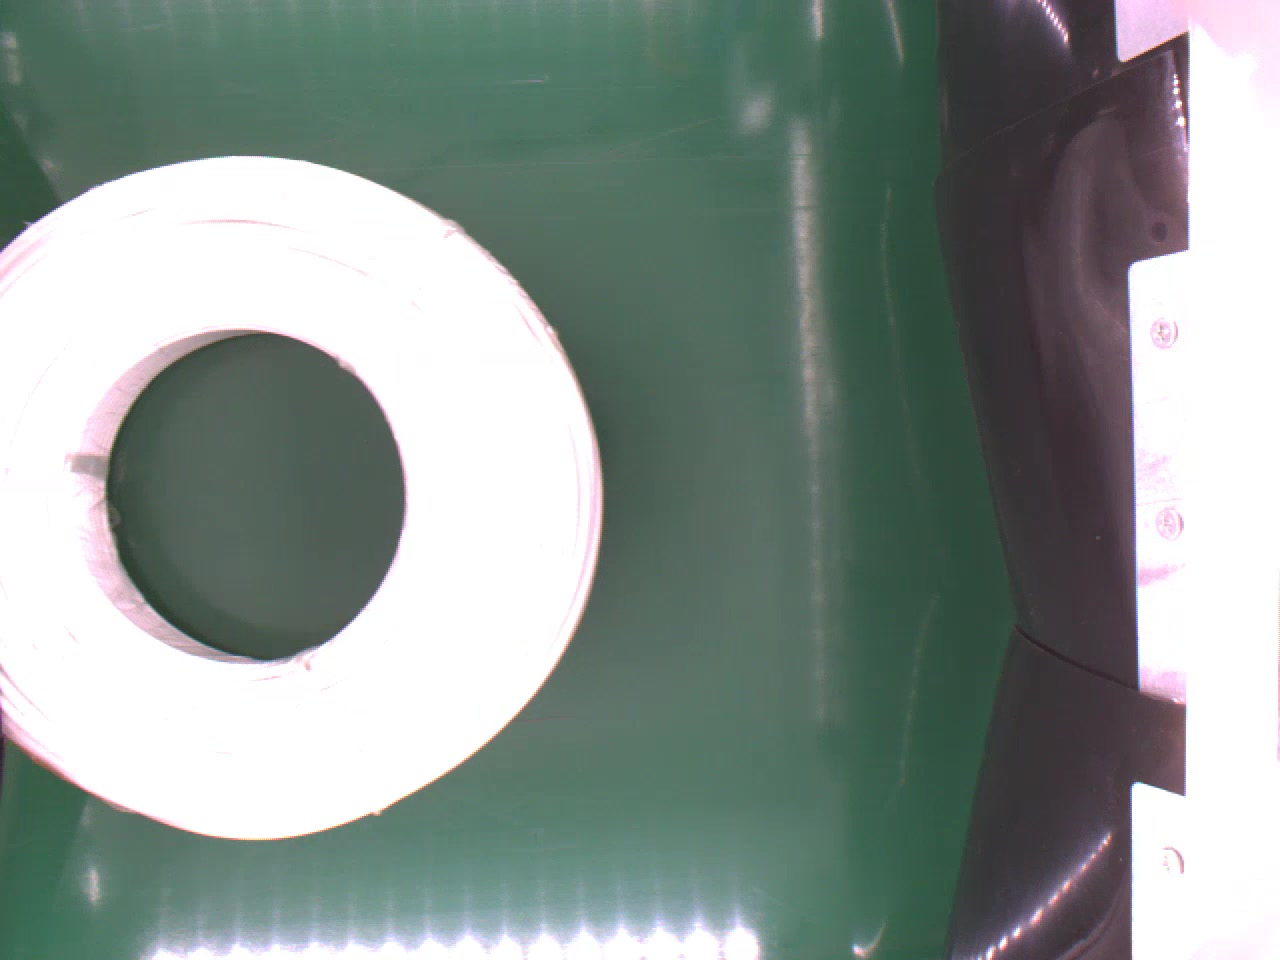white: (0, 153, 599, 846)
